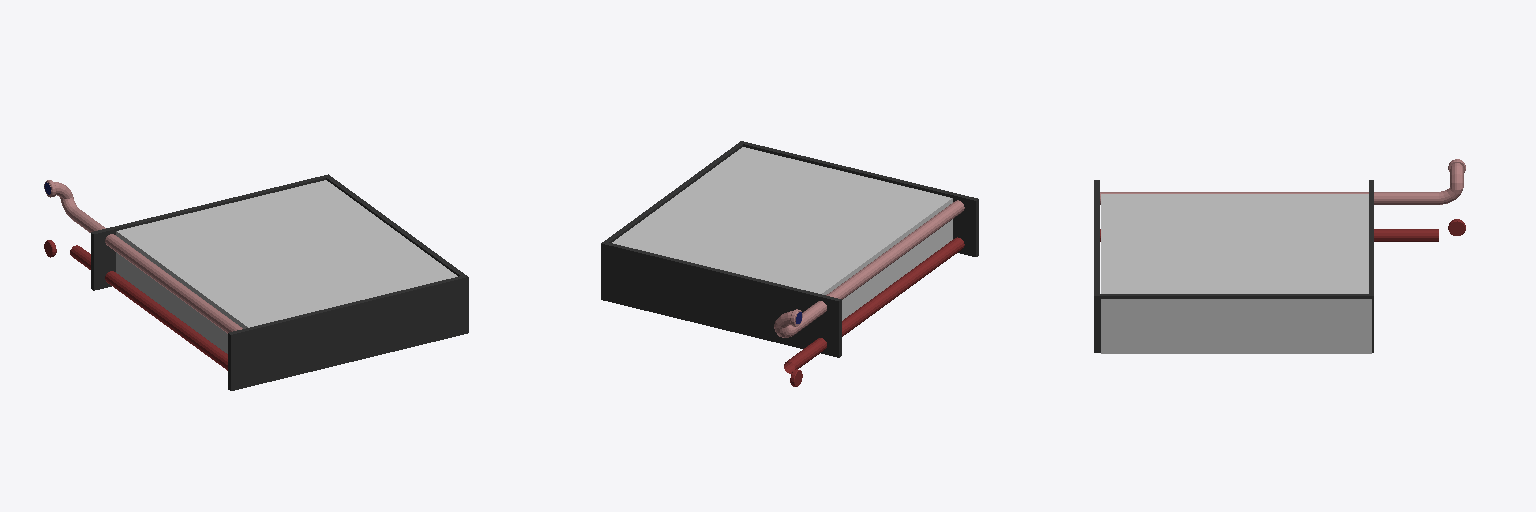
File: heating-coil.obj
3 renders of one model, left to right at view 1: azimuth 30°, elevation 25°; view 2: azimuth 150°, elevation 25°; view 3: azimuth 270°, elevation 25°, orthographic.
Visible parts, largest first — view 1: HeatingCoil_HeatingCoilGeom; view 2: HeatingCoil_HeatingCoilGeom; view 3: HeatingCoil_HeatingCoilGeom.
Boxes of the visible parts, <box> form: HeatingCoil_HeatingCoilGeom: <box>44,174,468,390</box>; HeatingCoil_HeatingCoilGeom: <box>601,141,978,386</box>; HeatingCoil_HeatingCoilGeom: <box>1094,159,1465,353</box>.
Size of the model in its own units: 1.74 by 0.5436 by 2.34.